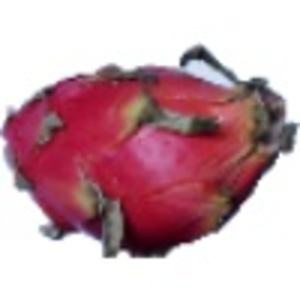pitaia: (1, 45, 300, 259)
